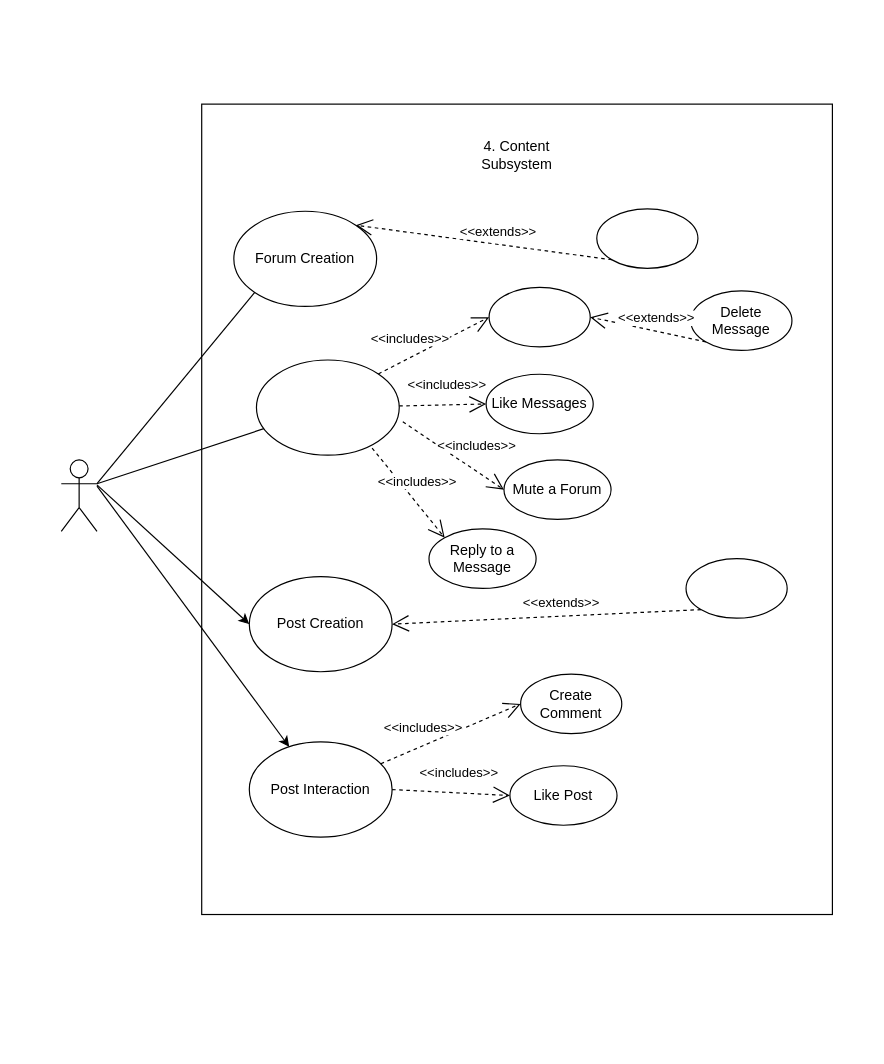
Some shapes in this 884 by 1064 pixel diagram are drawn without their labels. The shapes that lost their labels are listed below. From the top down, each one's centre as x and y in pixels, then its label:
pixel 647 238: Delete Forum
pixel 539 316: Create Message
pixel 327 407: Forum Interaction
pixel 78 495: User
pixel 736 588: Delete Post
